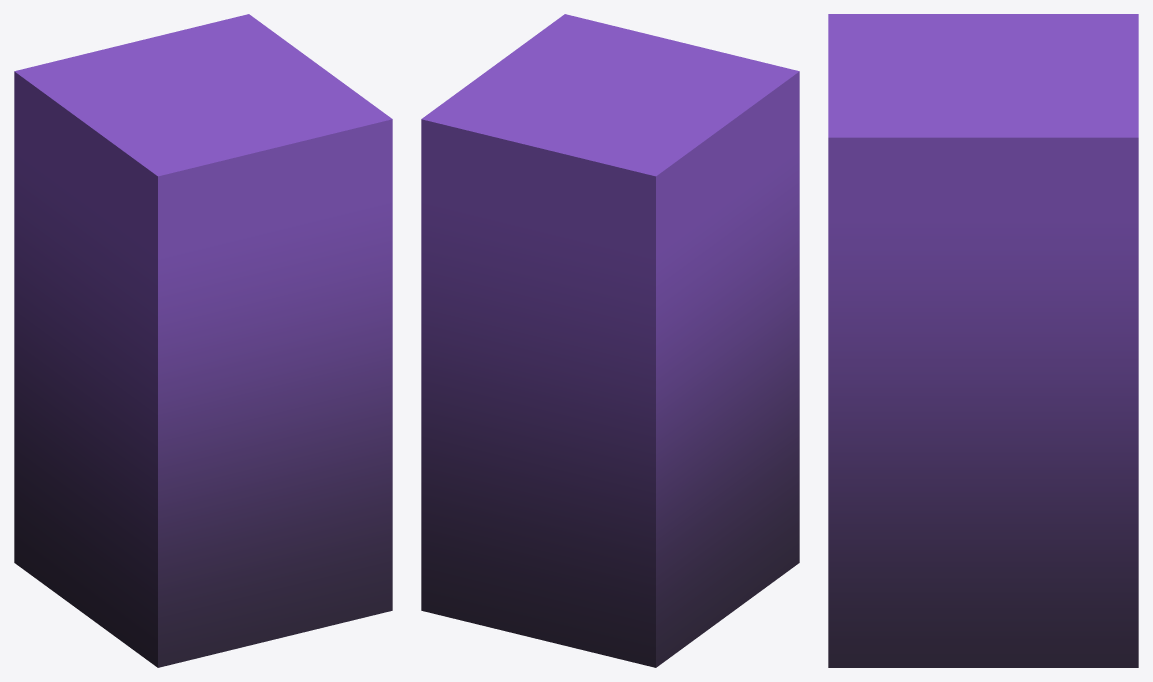
Rendered from Plat01.017.glb.
The picture shows the model from 3 angles, left to right: view 1: azimuth 30°, elevation 25°; view 2: azimuth 150°, elevation 25°; view 3: azimuth 270°, elevation 25°; orthographic projection. The views are drawn at different scales.
Visible parts, largest first — view 1: Plat01.017; view 2: Plat01.017; view 3: Plat01.017.
Boxes of the visible parts, bbox=[...] form: Plat01.017: bbox=[14, 14, 392, 667]; Plat01.017: bbox=[421, 14, 799, 667]; Plat01.017: bbox=[828, 14, 1138, 667].
Size of what is drawn, in the model's own units: 1.58 by 3.15 by 1.67.
Materials: 1 (1 with a texture image).
